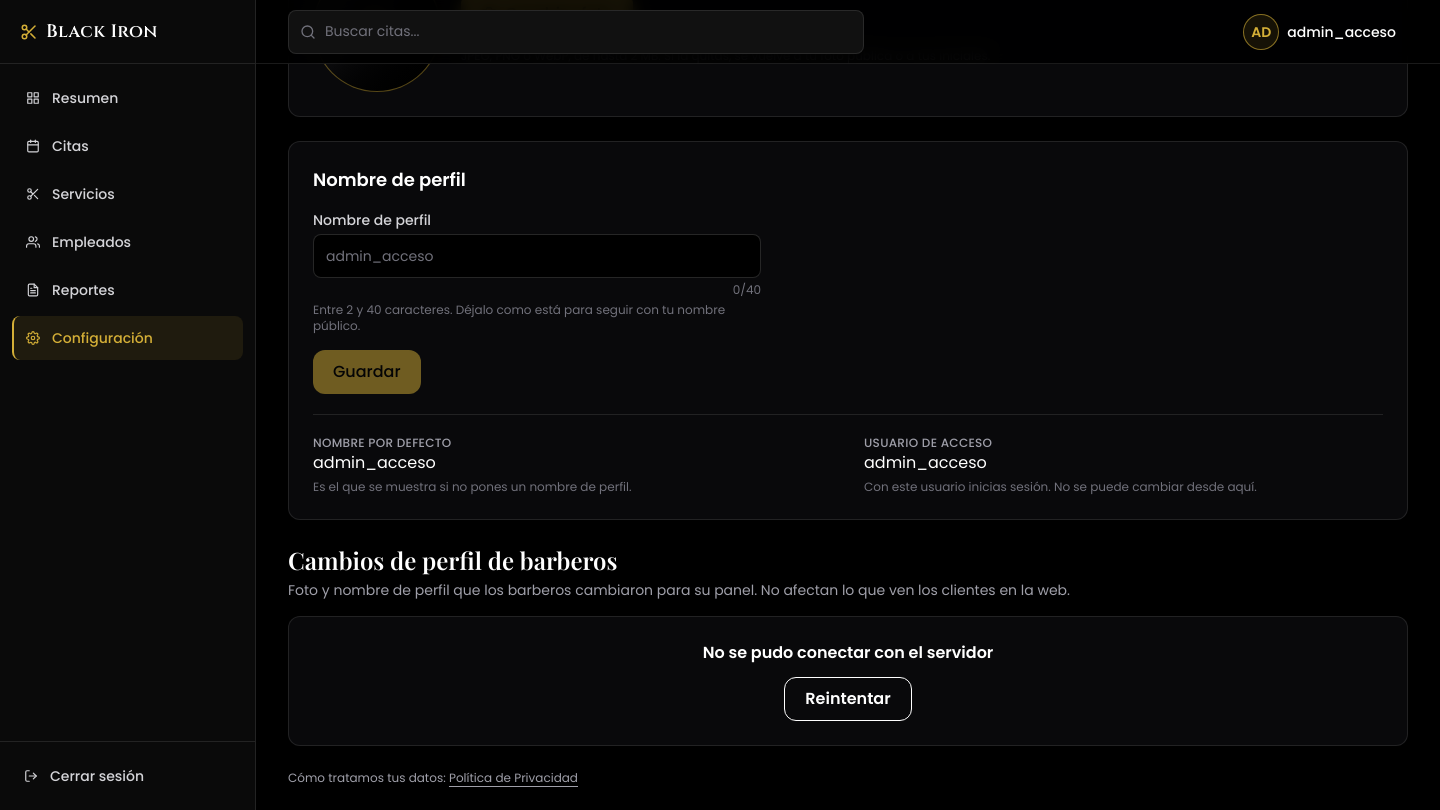
Test case: Vista de revisión en /admin/configuracion › error de carga con Reintentar
(page scrolled)
Expected: the message shows "No se pudo conectar con el servidor", left=703, top=641, right=993, bottom=664
Click the button "Reintentar" at (848, 699), box left=784, top=677, right=912, bottom=721
(page scrolled)
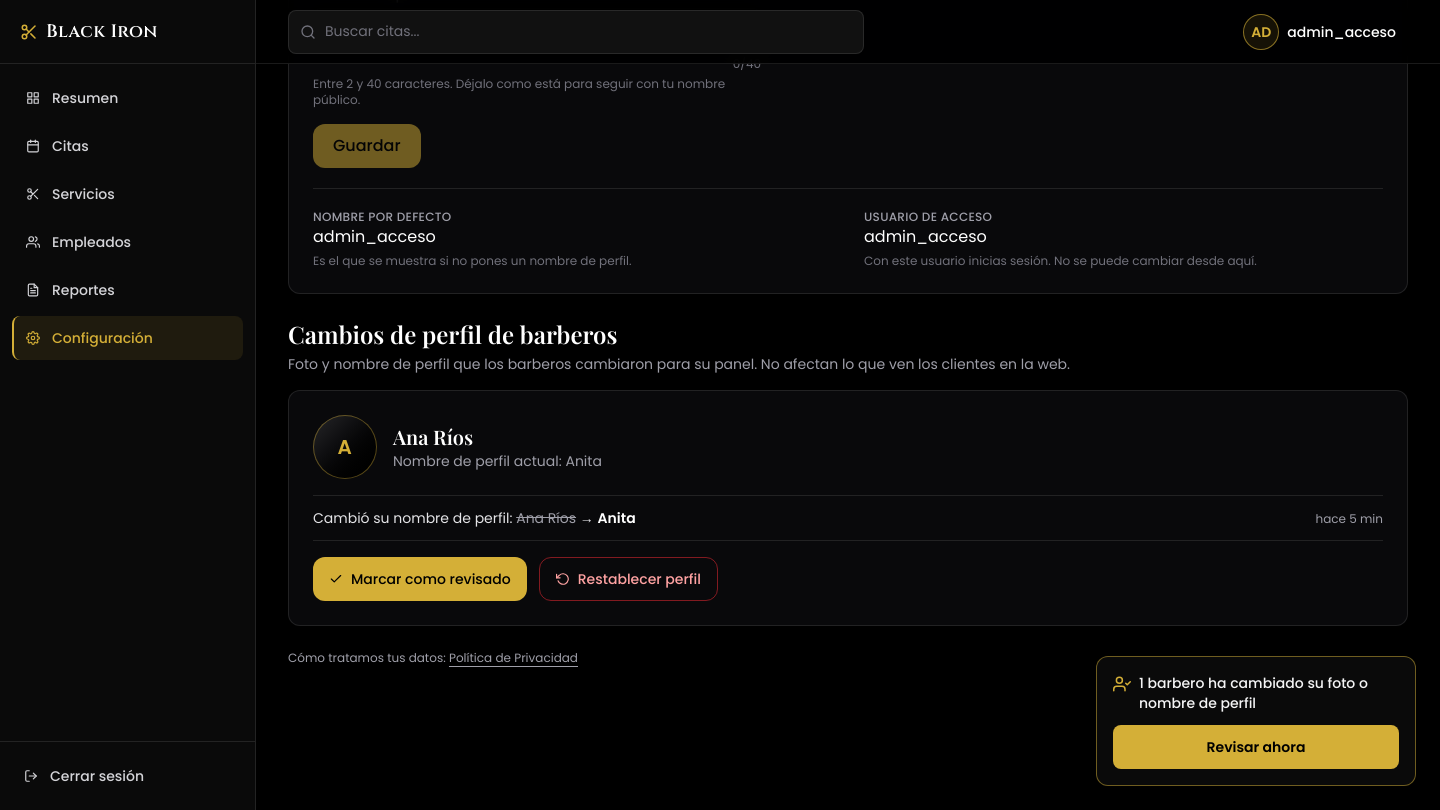
Expected: the element named "Cambios de perfil de Ana Ríos" is shown, left=288, top=390, right=1408, bottom=626
